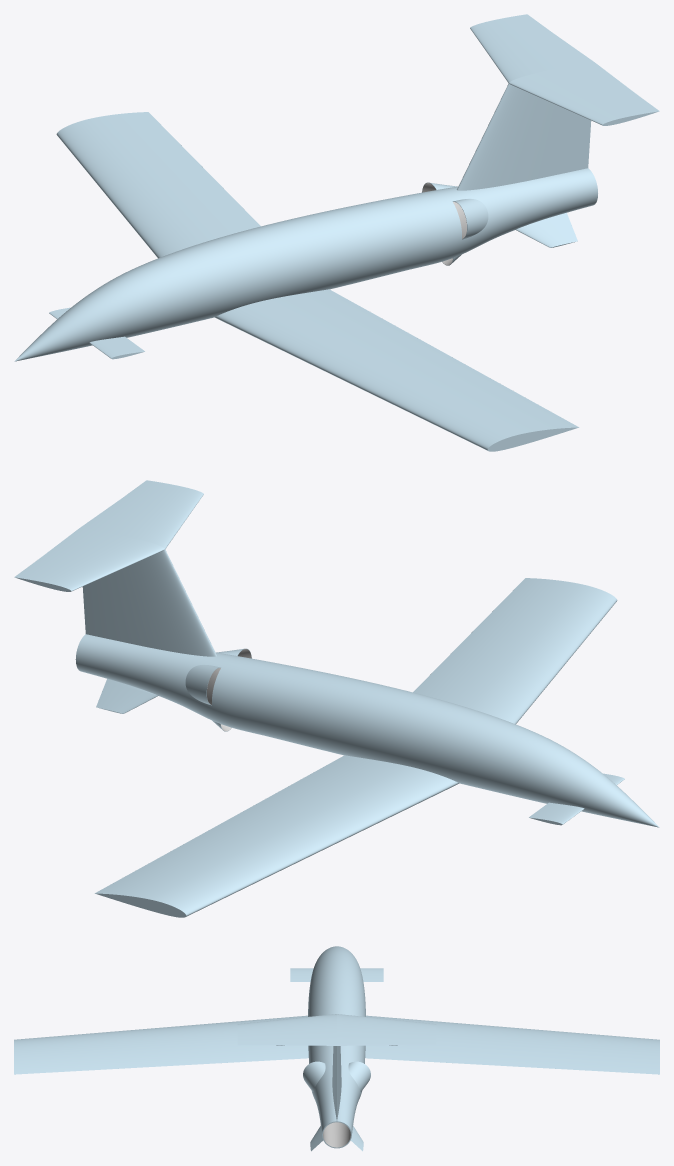
The model's file is Arc Knight Mk2.gltf.
The picture shows the model from 3 angles, top to bottom: view 1: azimuth 30°, elevation 25°; view 2: azimuth 150°, elevation 25°; view 3: azimuth 270°, elevation 25°; orthographic projection. The views are drawn at different scales.
Parts seen in each view (by area): view 1: Arc Knight MK 2; view 2: Arc Knight MK 2; view 3: Arc Knight MK 2.
Boxes of the visible parts, left/top/right/bottom form: Arc Knight MK 2: left=14, top=14, right=659, bottom=451; Arc Knight MK 2: left=14, top=480, right=659, bottom=917; Arc Knight MK 2: left=14, top=946, right=659, bottom=1151.
Size of the model in its own units: 1.01 by 0.2812 by 1.3.
